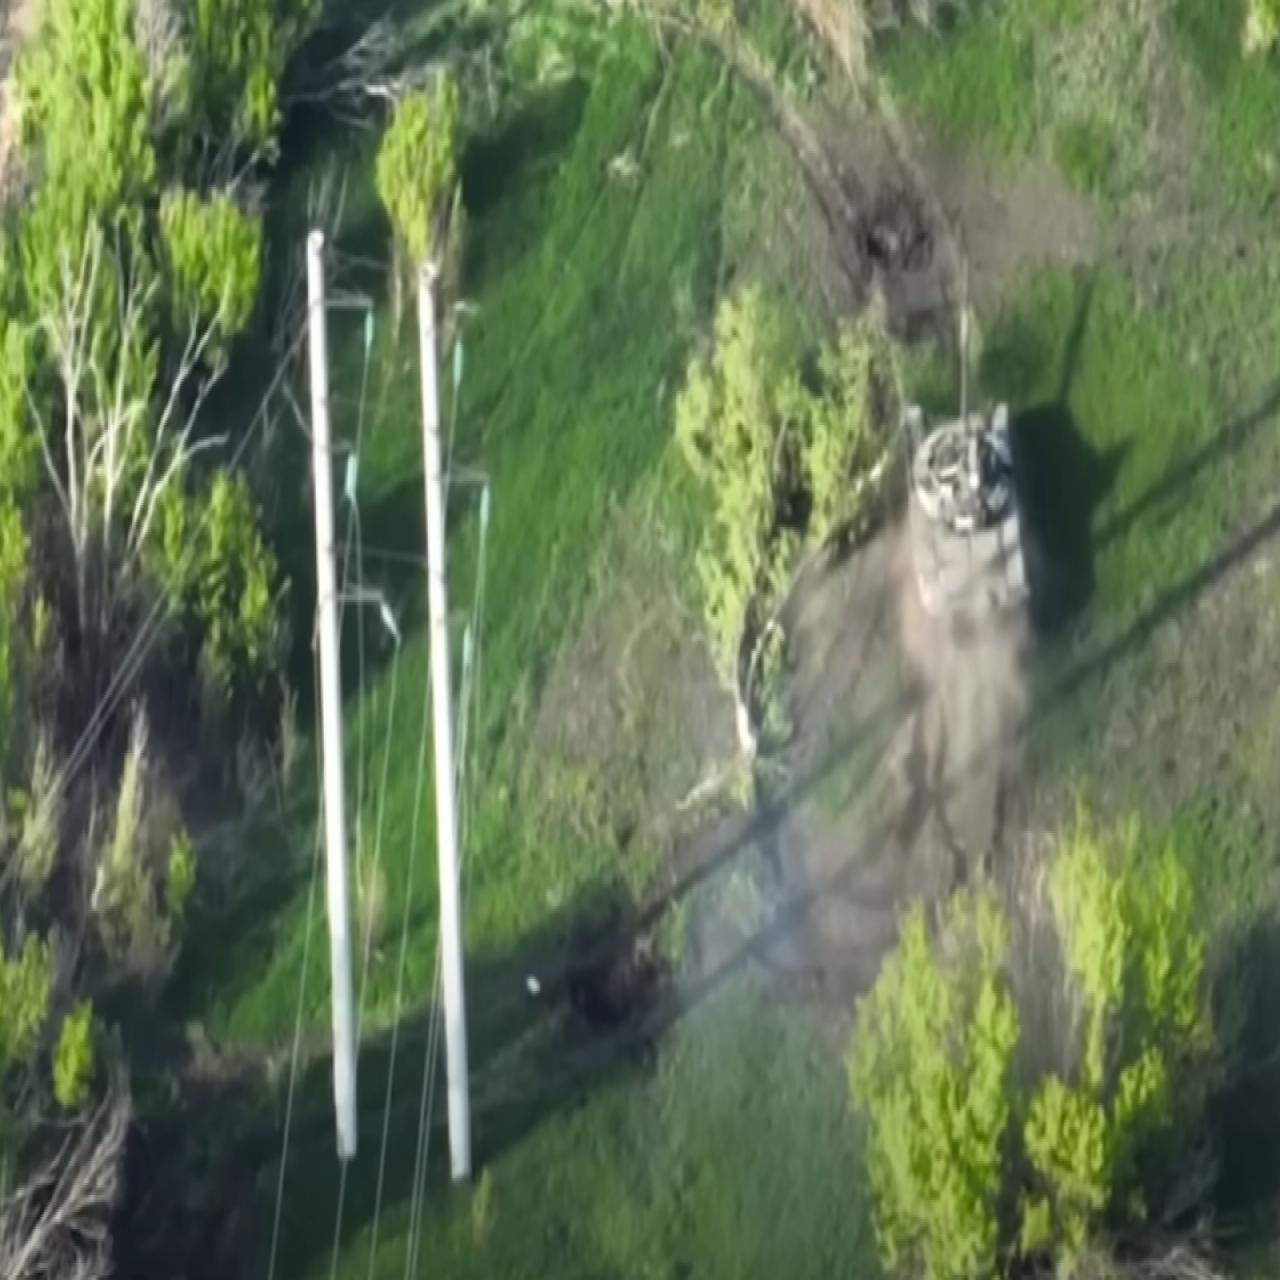MIL_Veh: (886, 252, 1036, 651)
